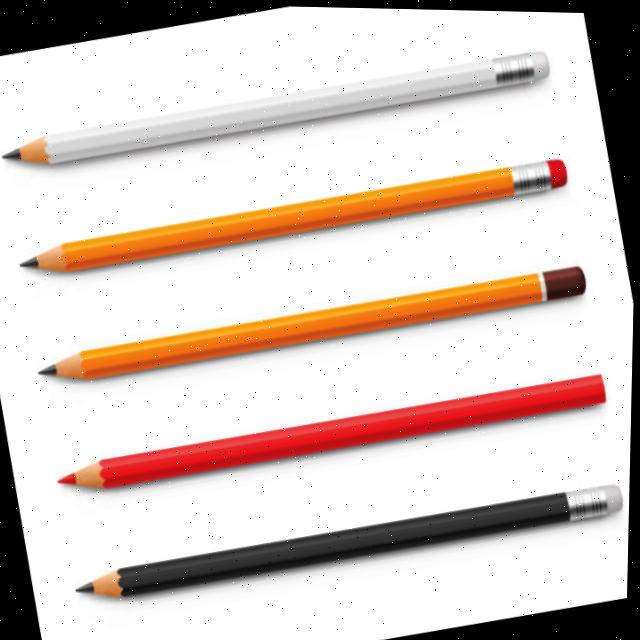pencil: (0, 20, 565, 200), (47, 348, 621, 521), (8, 133, 580, 302), (28, 242, 596, 412), (67, 462, 632, 627)
